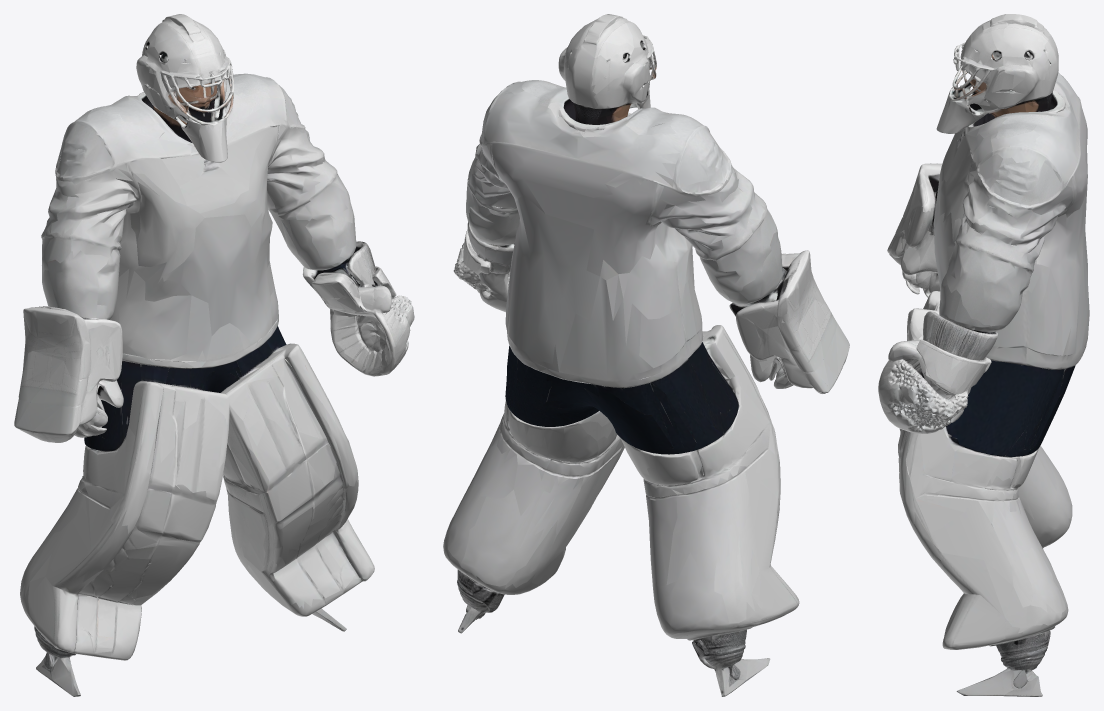
The picture shows the model from 3 angles, left to right: view 1: azimuth 30°, elevation 25°; view 2: azimuth 150°, elevation 25°; view 3: azimuth 270°, elevation 25°; orthographic projection. The views are drawn at different scales.
Parts seen in each view (by area): view 1: goalie; view 2: goalie; view 3: goalie.
Boxes of the visible parts, x1,y1,x2,y2 form: goalie: (14, 14, 414, 696); goalie: (443, 14, 849, 696); goalie: (878, 14, 1089, 696).
Size of the model in its own units: 1.17 by 1.85 by 0.5738.
Materials: 1 (1 with a texture image).
